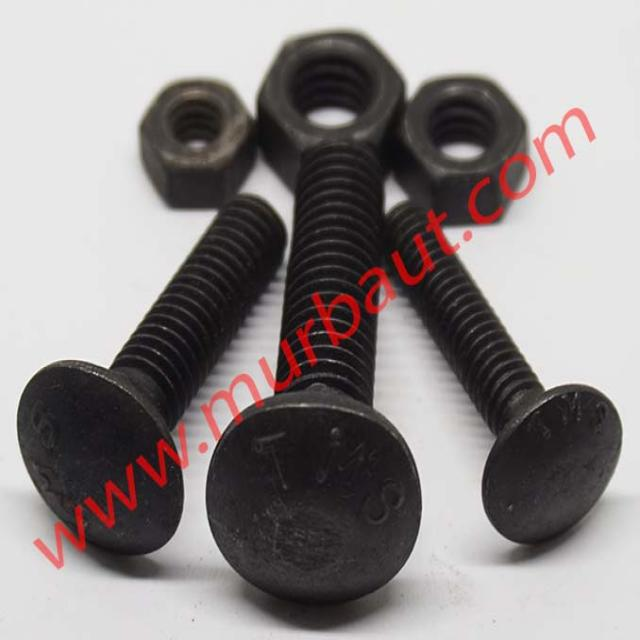Logam: (43, 101, 602, 594)
